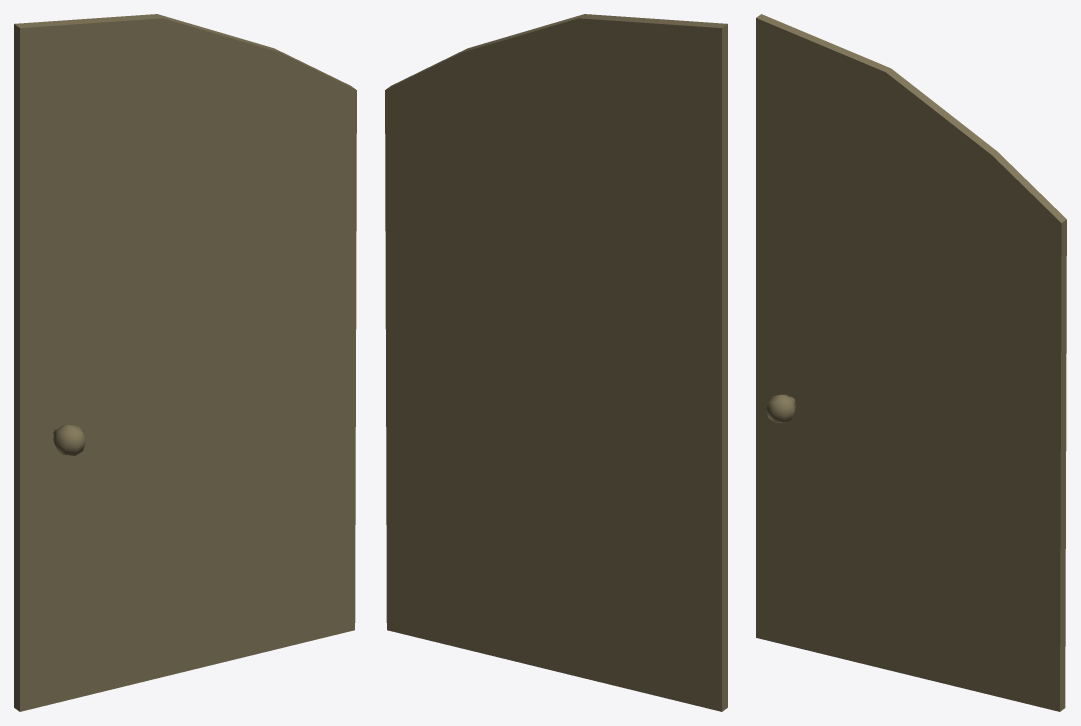
Rendered from GarageDoorRight_1.fbx.
3 views of the same model, side by side, from view 1: azimuth 30°, elevation 25°; view 2: azimuth 150°, elevation 25°; view 3: azimuth 330°, elevation 25° (orthographic). The views are drawn at different scales.
Visible parts, largest first — view 1: GarageDoorRight_1; view 2: GarageDoorRight_1; view 3: GarageDoorRight_1.
Part boxes in pixels (x1,y1,x2,y2): GarageDoorRight_1: (14,14,356,711); GarageDoorRight_1: (385,14,727,711); GarageDoorRight_1: (756,14,1066,711).
Size of the model in its own units: 108 by 209 by 14.09.
